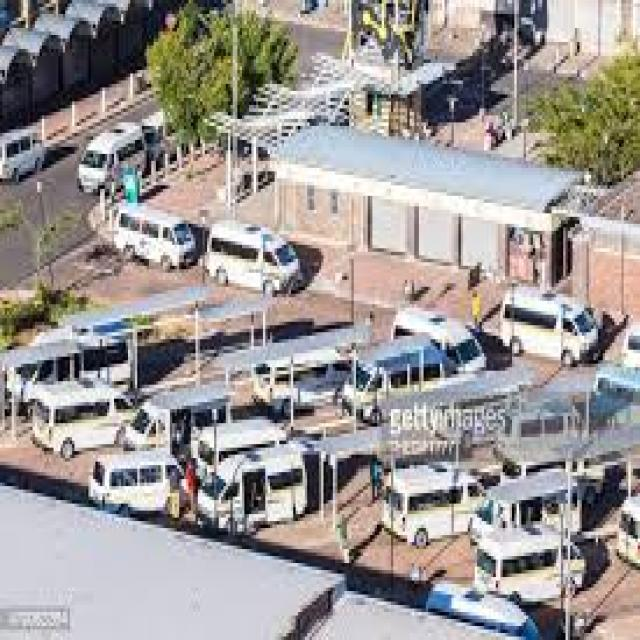MiniBus taxi: (493, 283, 603, 371), (475, 525, 586, 612), (377, 465, 489, 549), (205, 213, 305, 301), (112, 203, 198, 273), (74, 123, 149, 200)
